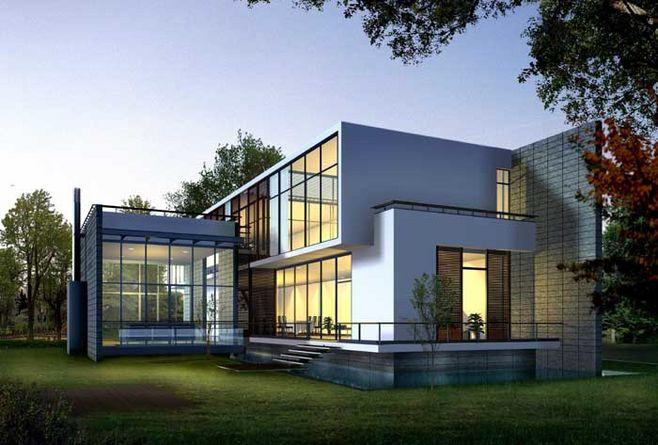buildings: (105, 114, 618, 348), (406, 117, 616, 296)
